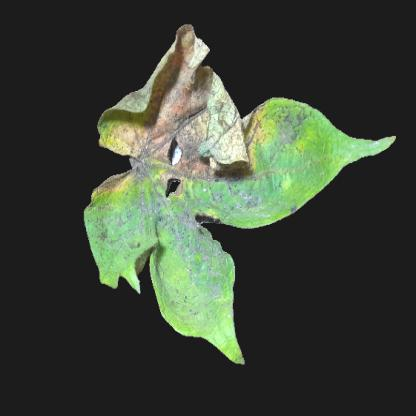curl_stage1: (258, 110, 319, 172), (321, 135, 351, 174), (96, 175, 130, 202), (107, 121, 134, 150), (211, 312, 235, 344)
sooty: (135, 92, 209, 166), (115, 173, 176, 253), (181, 199, 216, 281), (214, 172, 270, 214)
